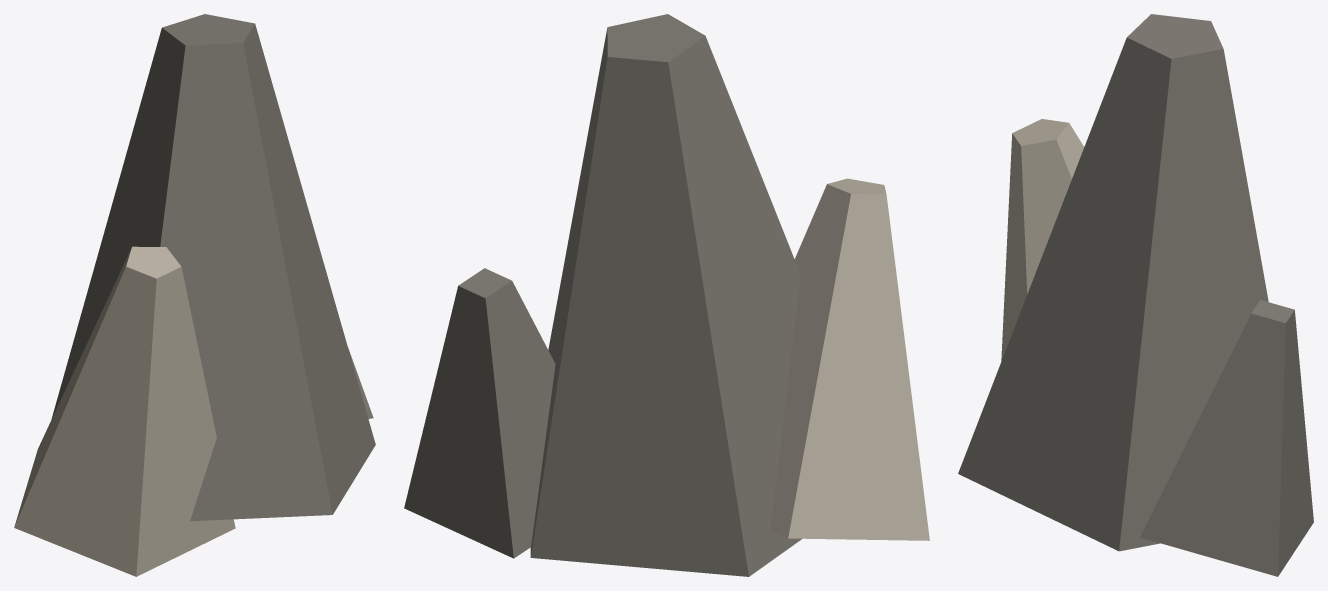
Rendered from crag.fbx.
3 renders of one model, left to right at view 1: azimuth 30°, elevation 25°; view 2: azimuth 150°, elevation 25°; view 3: azimuth 270°, elevation 25°, orthographic. The views are drawn at different scales.
Visible parts, largest first — view 1: Prop; view 2: Prop; view 3: Prop.
Boxes of the visible parts, box(x1,y1,x2,y2) form: Prop: box(14, 14, 375, 576); Prop: box(404, 14, 929, 576); Prop: box(958, 14, 1313, 576).
Size of the model in its own units: 0.938 by 0.6931 by 1.
